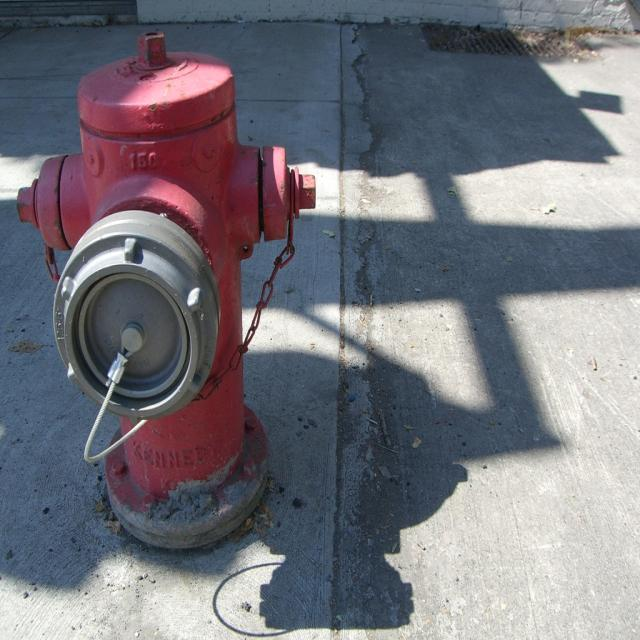fire_hydrant: (16, 30, 316, 551)
